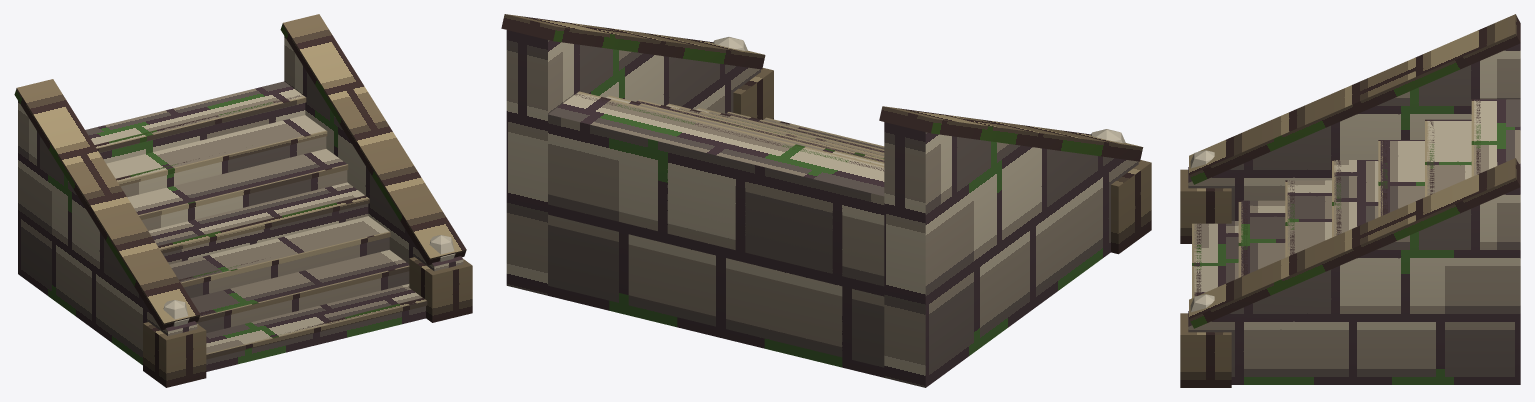
File: scene_stair_hall_ledge.glb
3 views of the same model, side by side, from view 1: azimuth 30°, elevation 25°; view 2: azimuth 150°, elevation 25°; view 3: azimuth 270°, elevation 25° (orthographic). The views are drawn at different scales.
Parts seen in each view (by area): view 1: scene_stair_hall_ledge; view 2: scene_stair_hall_ledge; view 3: scene_stair_hall_ledge.
Boxes of the visible parts, box(x1,y1,x2,y2) form: scene_stair_hall_ledge: box(14, 14, 472, 387); scene_stair_hall_ledge: box(501, 14, 1151, 387); scene_stair_hall_ledge: box(1180, 14, 1520, 387).
Bounding box in the file's own units: 3.36 × 1.98 × 2.92.
Materials: 2 (1 with a texture image).
